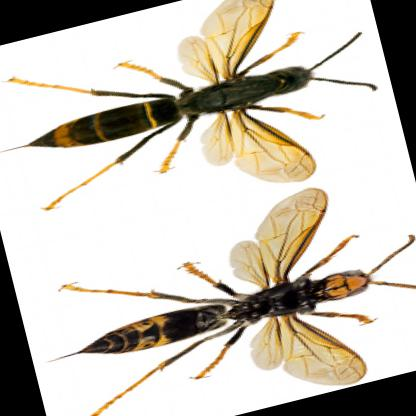asian: (22, 167, 415, 415), (0, 0, 391, 249)
